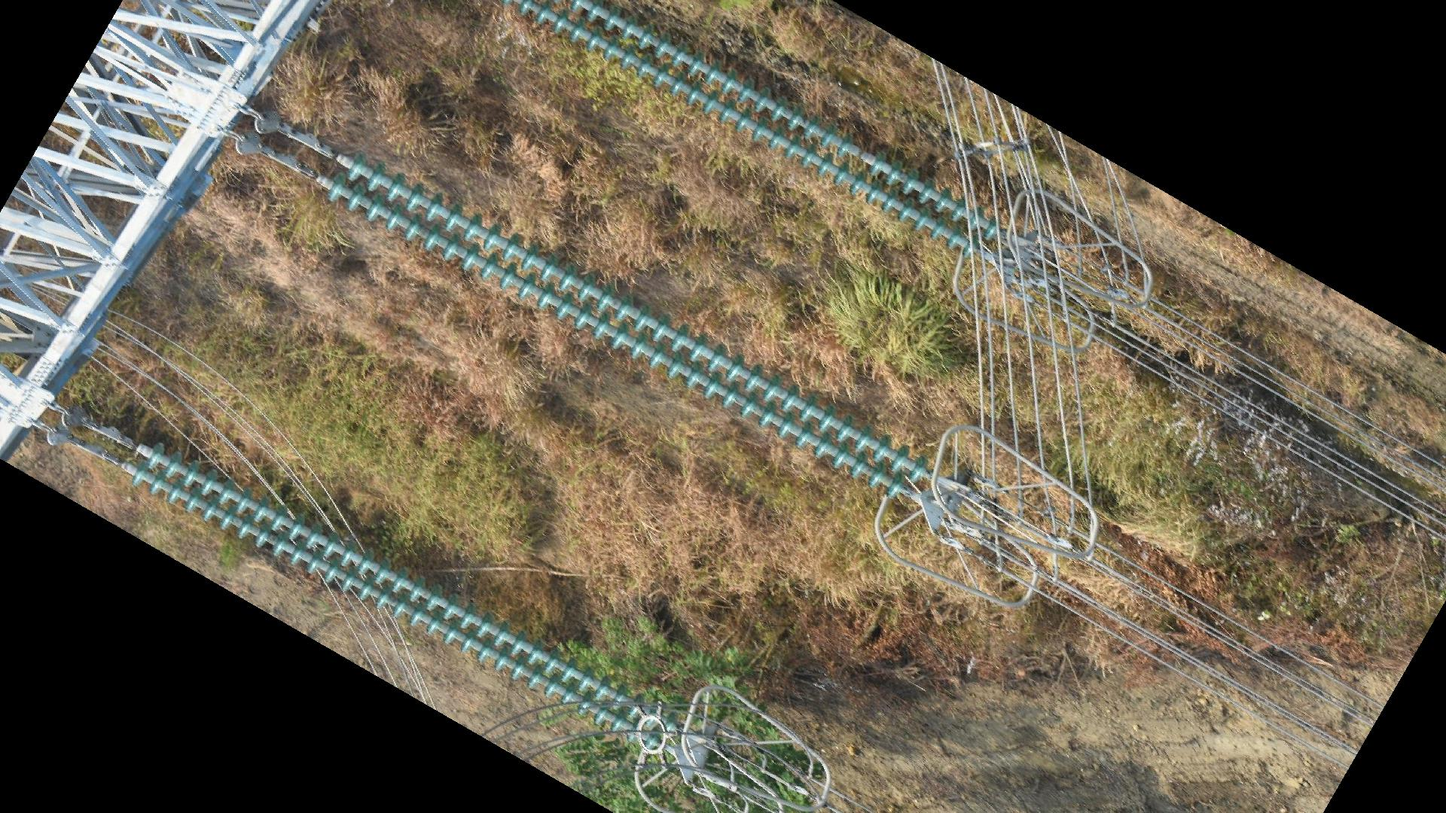insulator: (321, 148, 933, 505), (126, 439, 685, 760), (514, 1, 1001, 261)
insulator_stringdrop: (834, 129, 890, 178)
